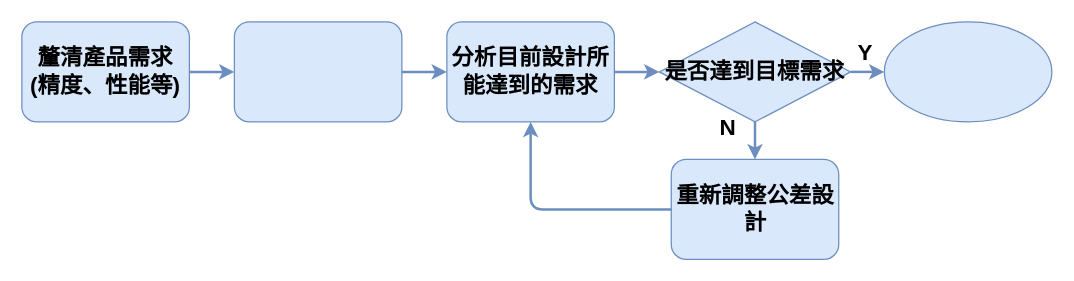
The diagram is 1074 pixels wide and 281 high, and some of its shapes have lost their labels. The shapes that lost their labels are listed below. From the top down, each one's centre as x and y in pixels, then its label:
point 317,71: 根據需求初步進行公差設計
point 967,71: 完成公差設計
